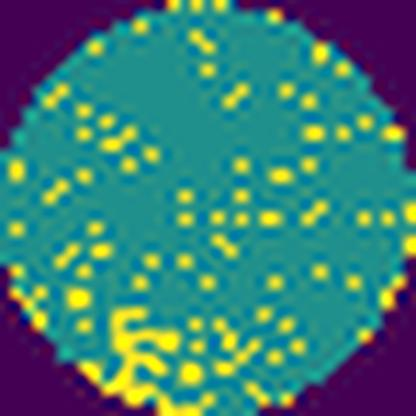Loc: (77, 303, 199, 416)
